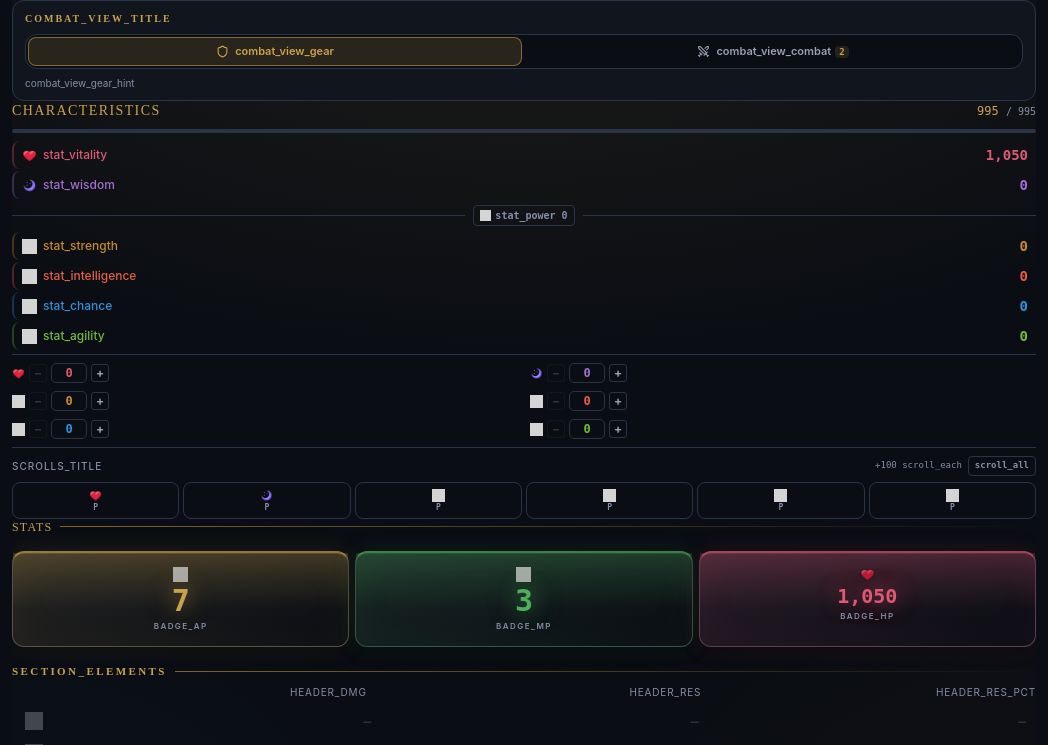
Test: CharacteristicsPanel combat view › one control for both panels (the bar above them): In combat updates the characteristics too
Click the radio button labelled "combat_view_combat2". click: (773, 51)
box: [526,37,1020,66]
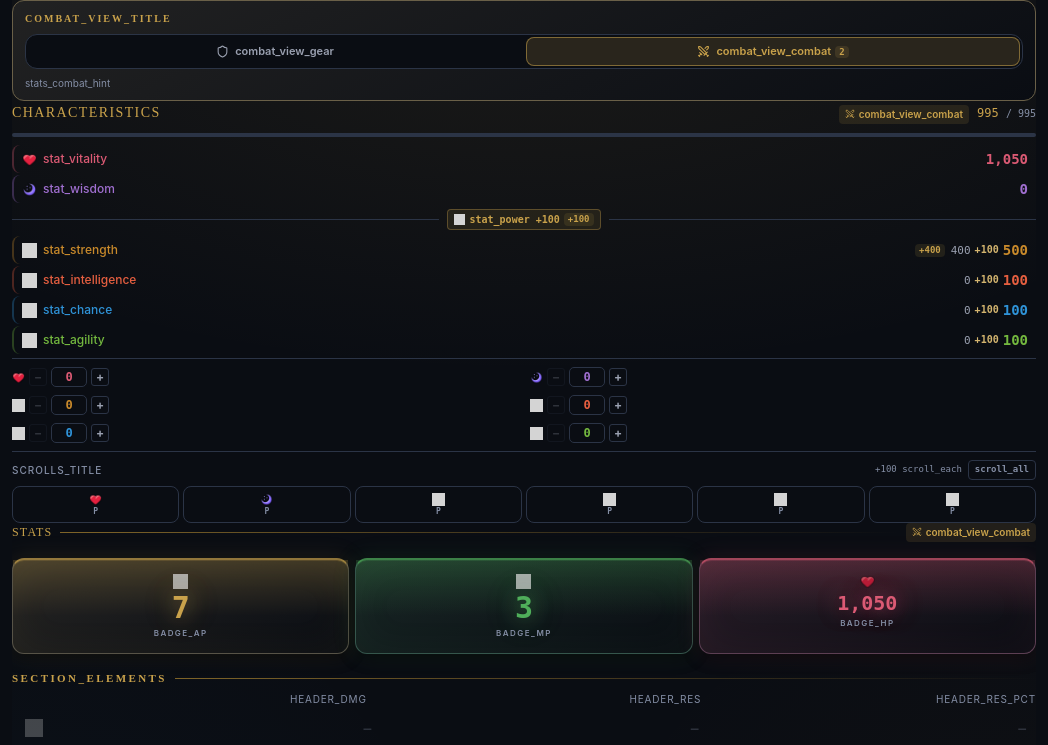
expect the text "combat_view_combat" in the row of "characteristics" is shown: met, box [859,108,963,120]
